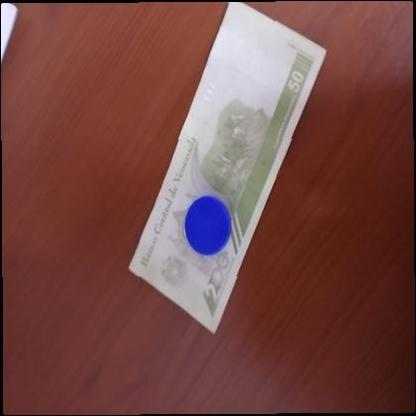fifty-back-vef: (126, 0, 327, 335)
